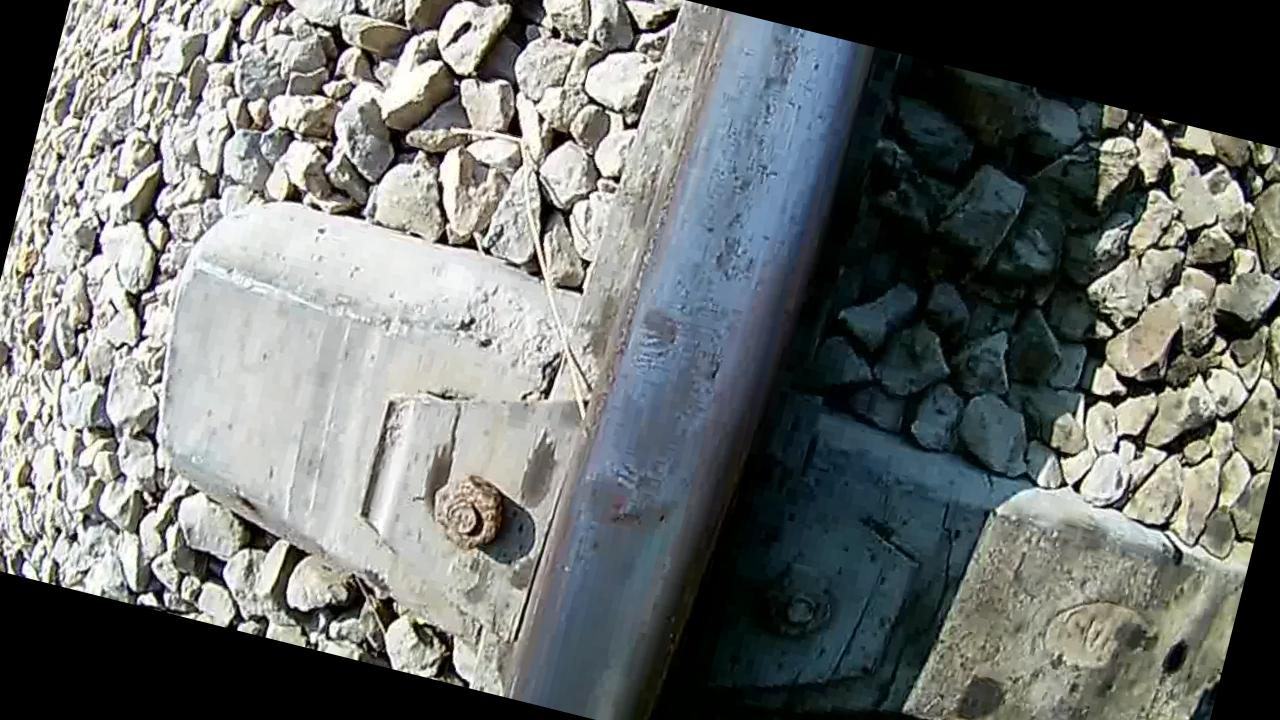crack: (501, 0, 865, 720)
